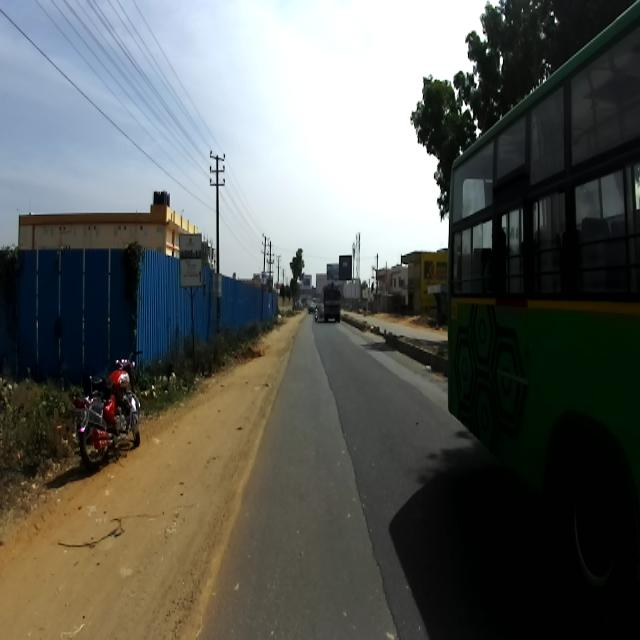bicycle ahead at: (74, 346, 144, 473)
electric pole ahead at: (200, 134, 237, 389)
